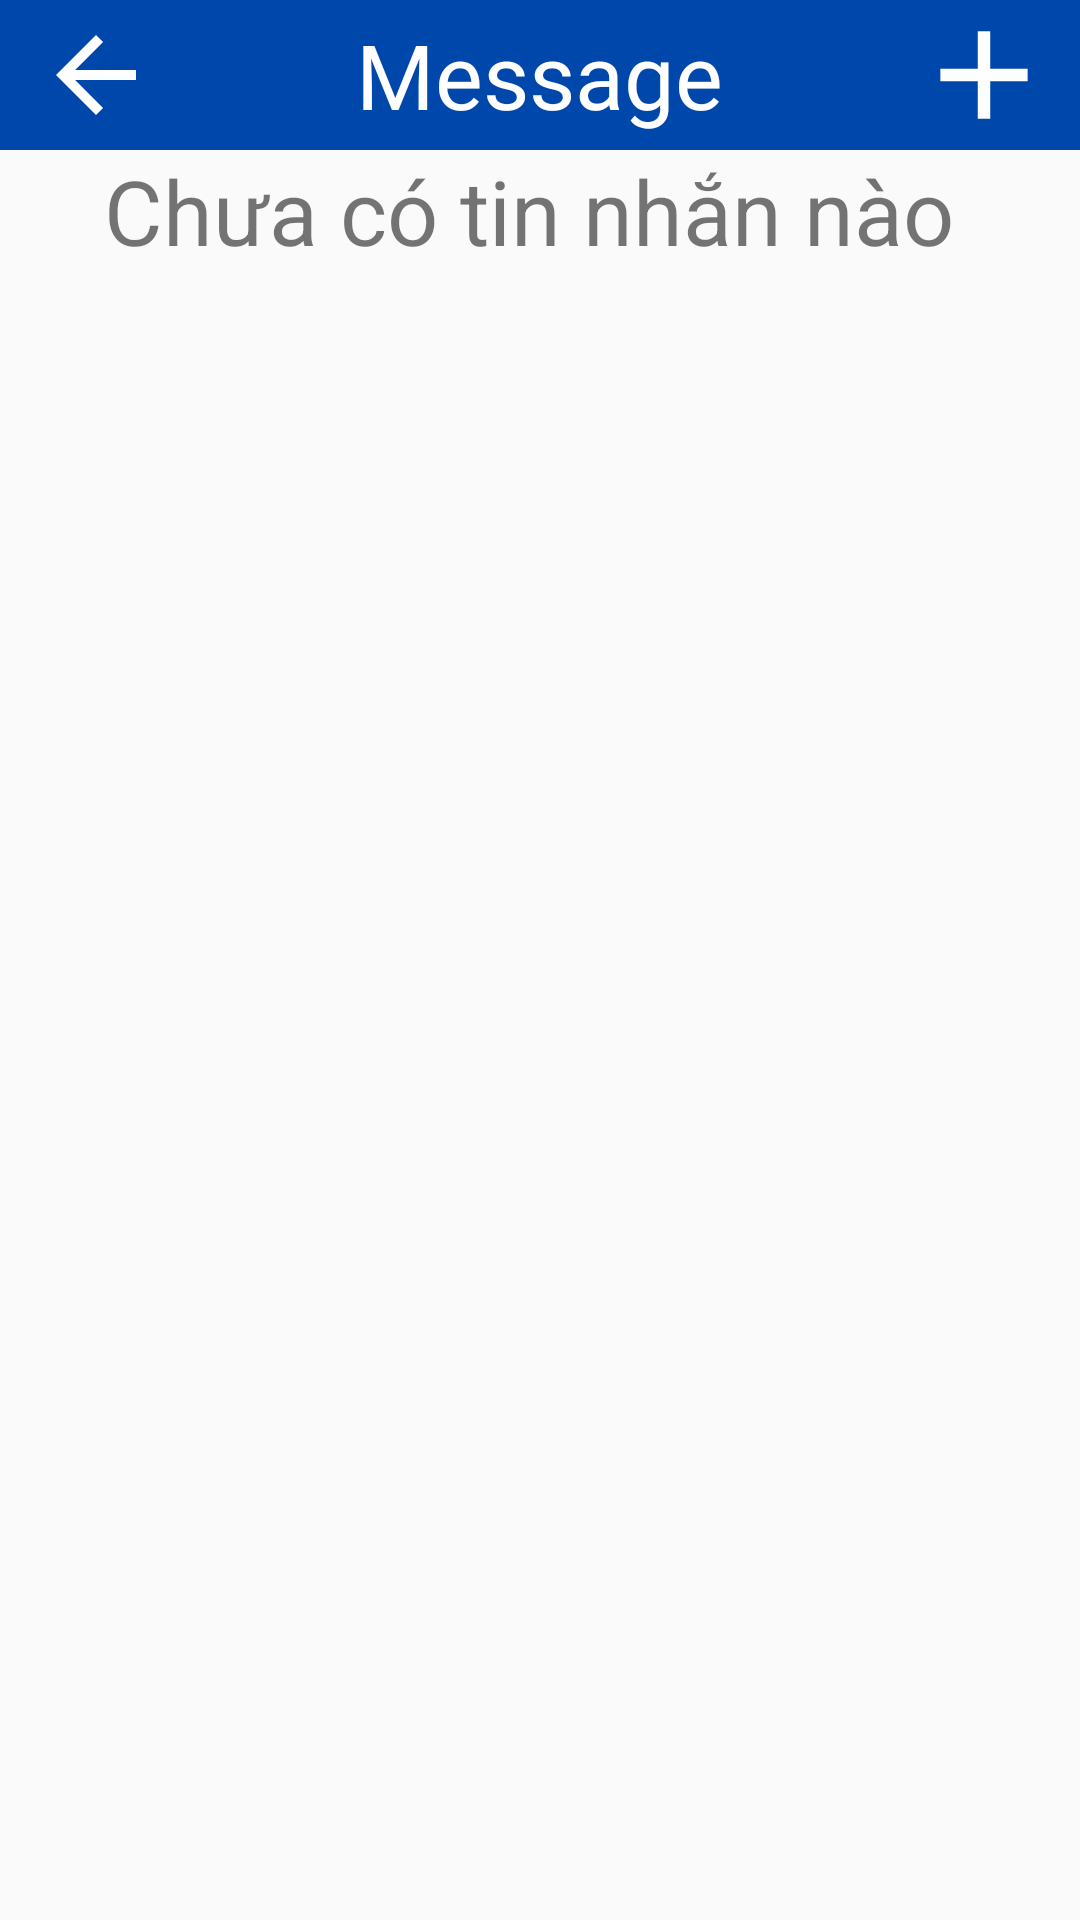

Locate icon controls on the screen. Image size 1080×1920, boxes as (x1, y1, x2, y2).
add: (940, 31, 1028, 119)
back: (56, 35, 136, 115)
